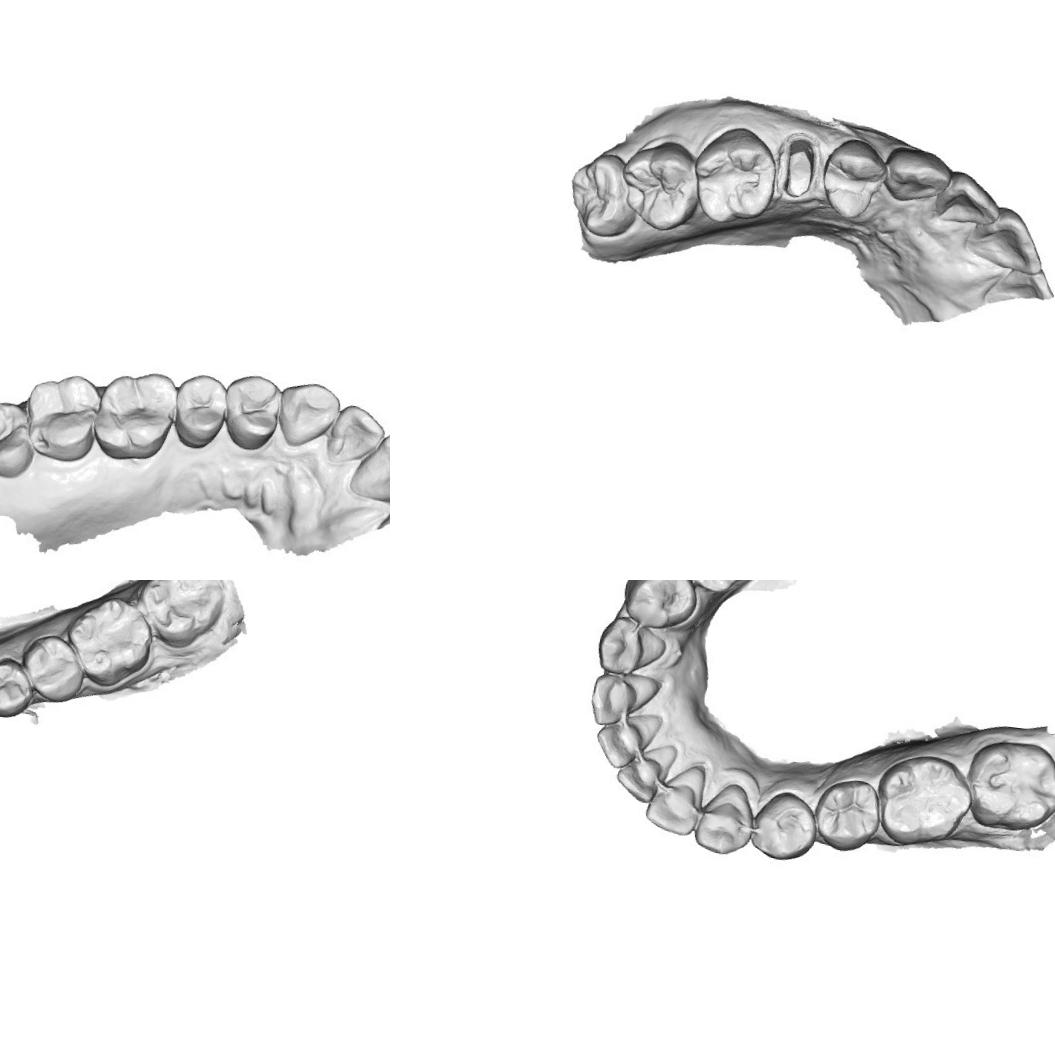canine: (270, 373, 344, 454), (880, 140, 954, 217), (692, 779, 758, 858), (593, 613, 669, 680)
crown: (774, 128, 824, 206)
incisor: (960, 202, 1048, 280), (932, 166, 1006, 238), (642, 759, 708, 838), (587, 668, 662, 732), (591, 708, 663, 774), (613, 738, 679, 807), (324, 398, 384, 470), (347, 424, 390, 514)
molar: (871, 748, 978, 852), (686, 121, 784, 234), (960, 734, 1055, 837), (90, 368, 180, 465), (13, 370, 106, 463), (622, 131, 704, 234), (563, 148, 644, 243), (69, 592, 150, 682), (134, 580, 222, 651), (0, 394, 47, 480)
premolar: (814, 130, 893, 225), (809, 774, 885, 856), (218, 368, 288, 455), (747, 787, 822, 865), (164, 368, 232, 451), (20, 628, 86, 706), (619, 580, 701, 634), (0, 652, 34, 719)
